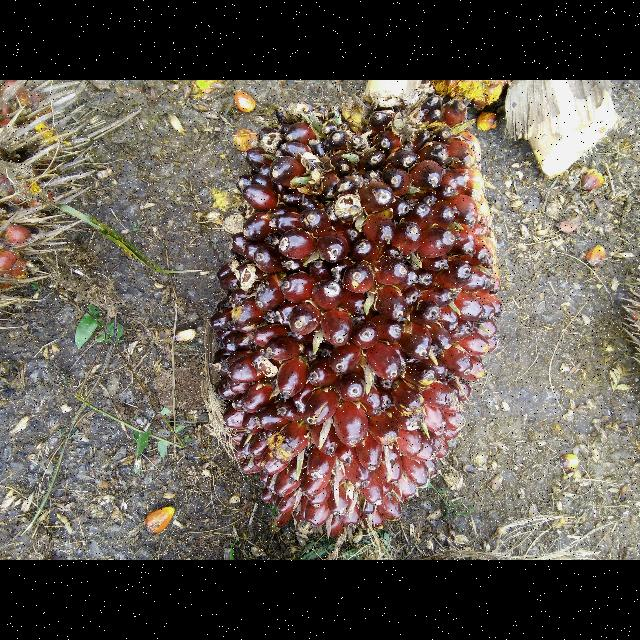Ripe: (204, 95, 495, 536)
